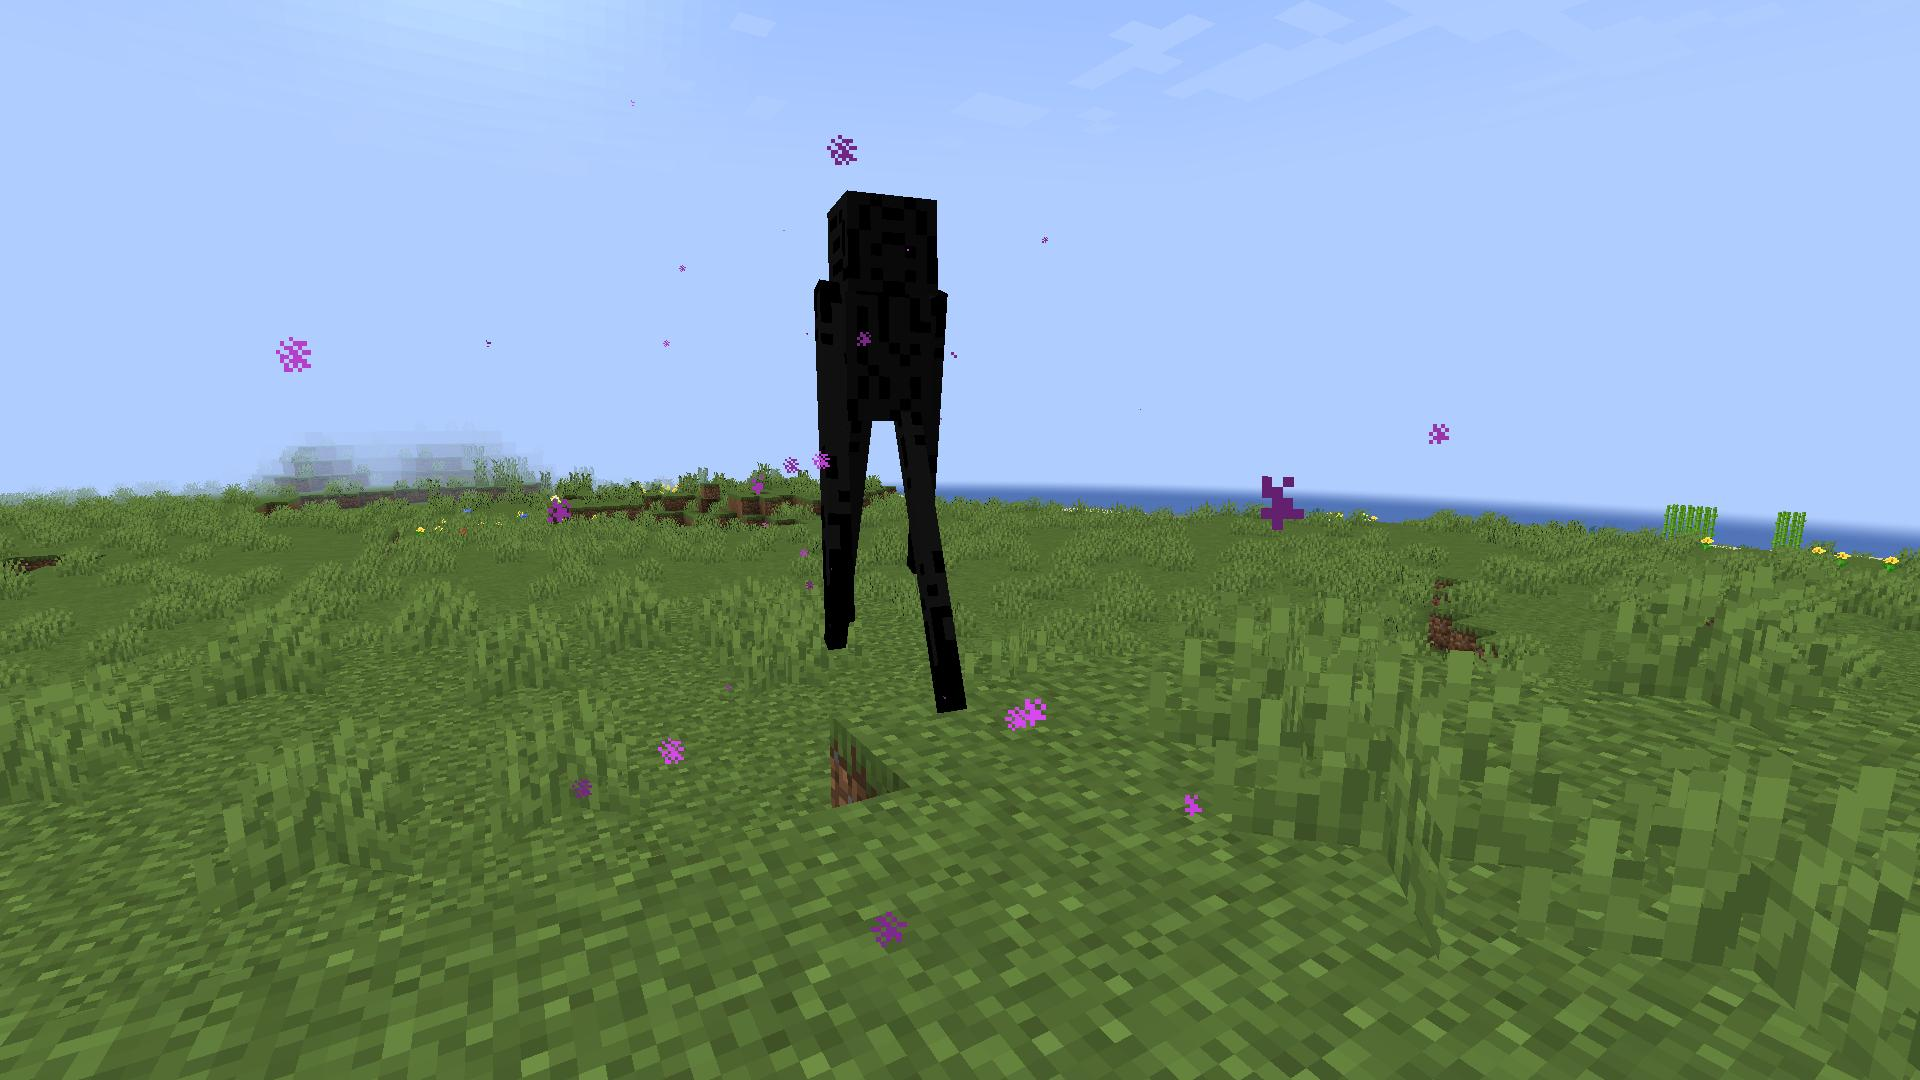enderman: (807, 186, 972, 716)
